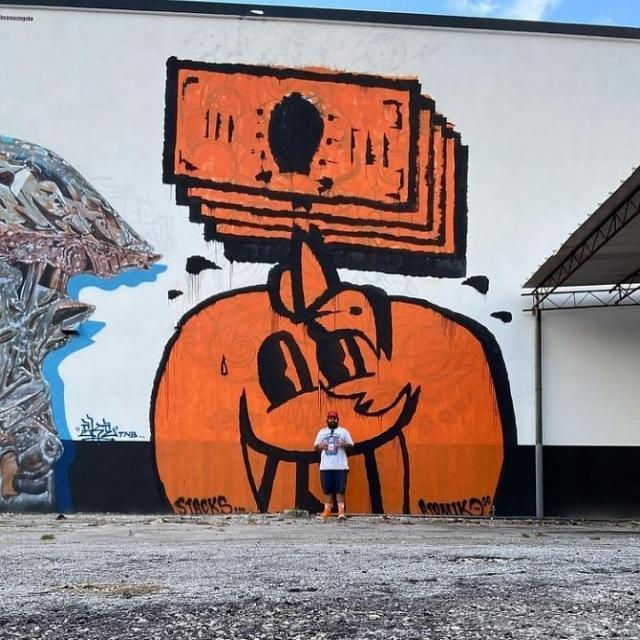-: (159, 246, 526, 514), (152, 61, 475, 282), (0, 130, 151, 495)
